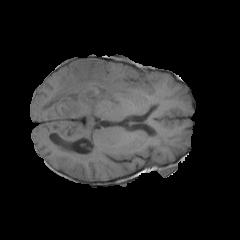glioma: (41, 58, 134, 115)
